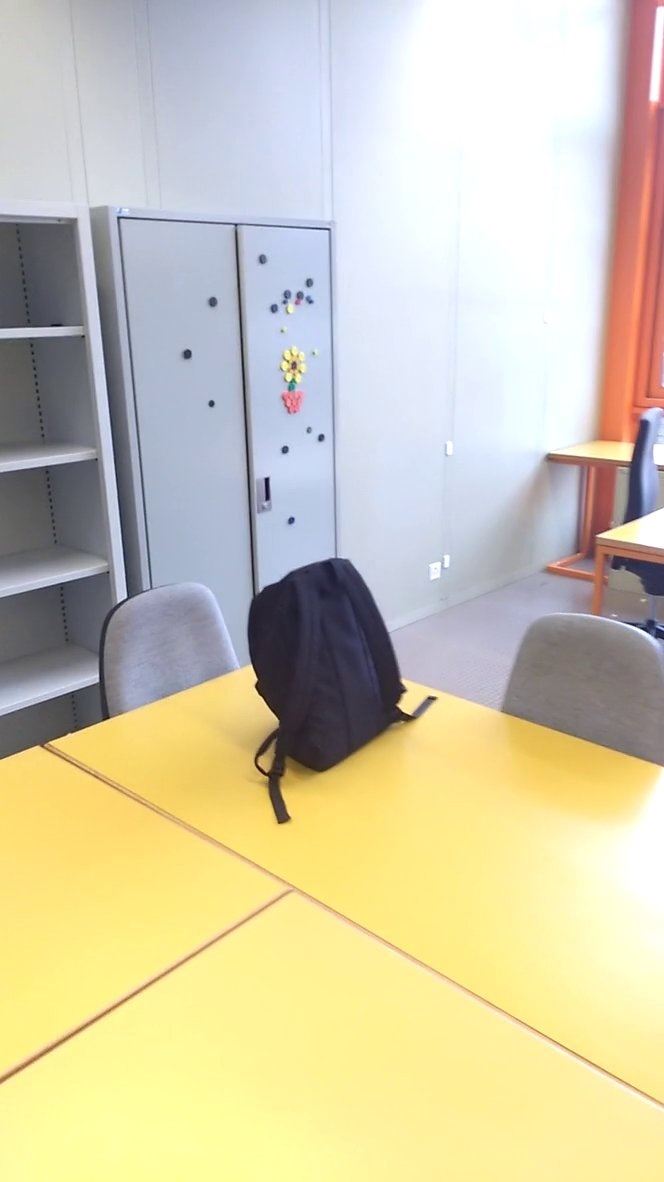bag: (243, 544, 440, 830)
chair: (486, 590, 664, 797), (81, 573, 246, 744), (618, 391, 664, 613)
